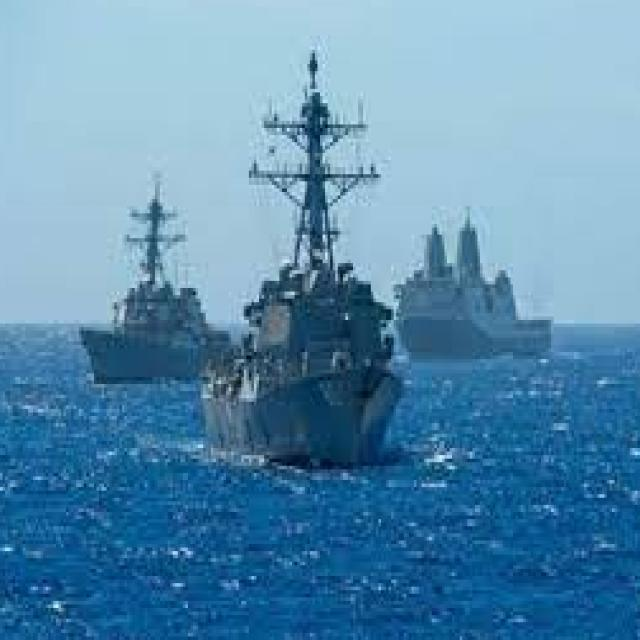navalvessels: (203, 60, 406, 484), (75, 166, 212, 382), (393, 186, 557, 348)
